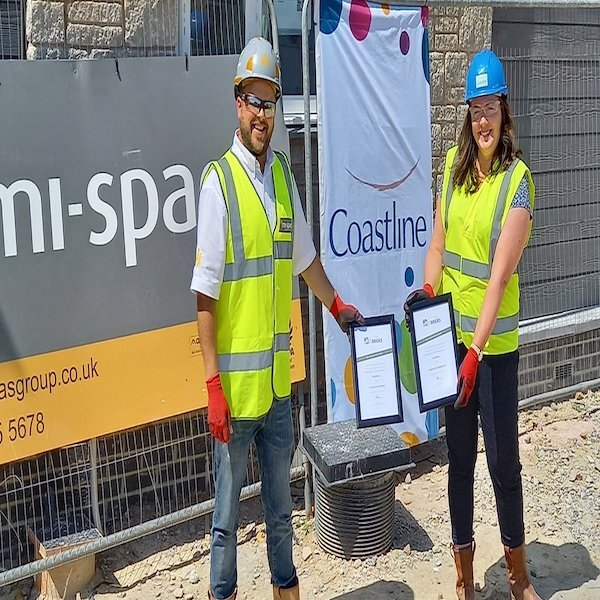helmet: (463, 48, 514, 102), (239, 33, 288, 87)
vest: (209, 150, 299, 427), (441, 152, 531, 369)
